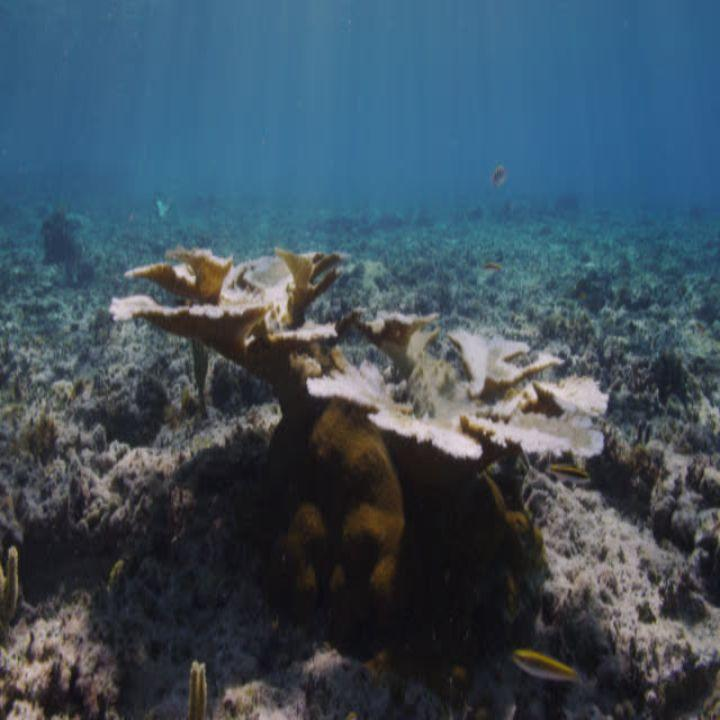White Pox Disease: (125, 229, 642, 491)
